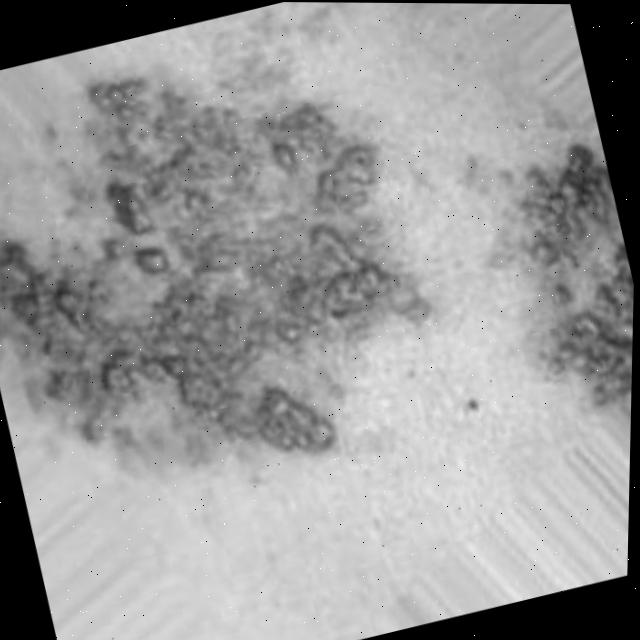Shingles: (0, 23, 437, 520), (501, 140, 637, 411)
